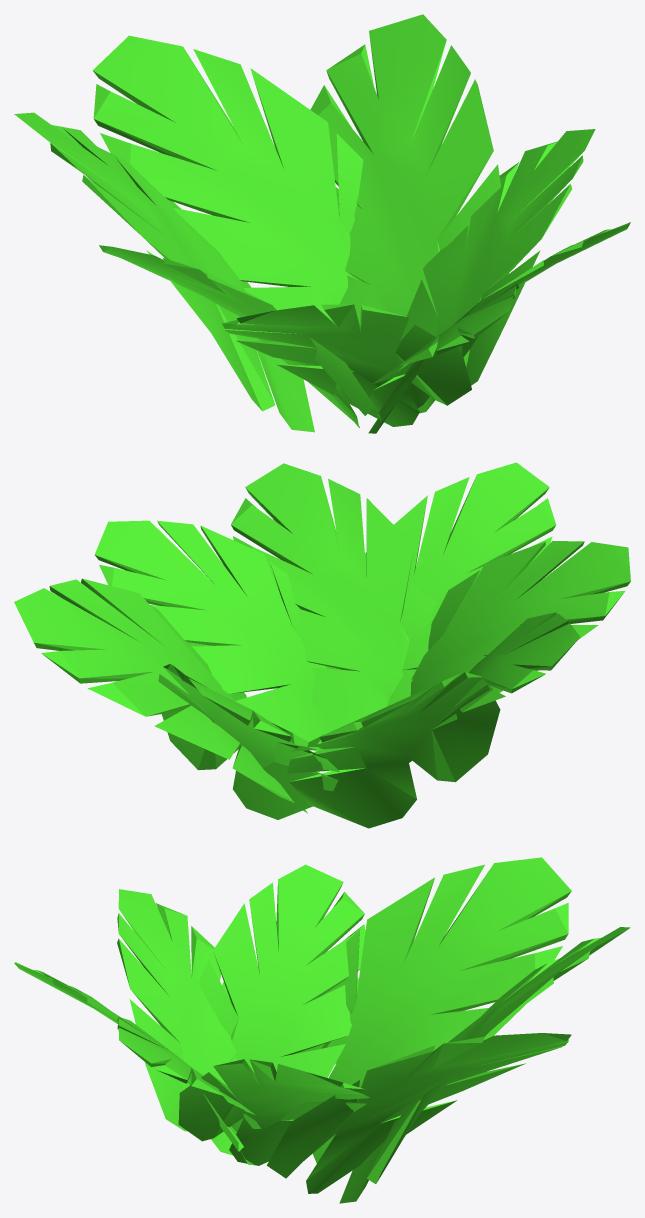
File: Gr-feuilles2.FBX
The picture shows the model from 3 angles, top to bottom: view 1: azimuth 30°, elevation 25°; view 2: azimuth 150°, elevation 25°; view 3: azimuth 270°, elevation 25°; orthographic projection. The views are drawn at different scales.
Visible parts, largest first — view 1: feuille011, feuille013, feuille010, feuille014, feuille015, feuille004, feuille012, feuille016; view 2: feuille016, feuille010, feuille013, feuille014, feuille015, feuille012, feuille011, feuille004; view 3: feuille014, feuille004, feuille013, feuille015, feuille010, feuille011, feuille016, feuille012.
Part boxes in pixels (<box>): feuille011: <box>92,35,363,321</box>; feuille013: <box>310,14,509,326</box>; feuille010: <box>400,129,595,413</box>; feuille014: <box>14,112,314,432</box>; feuille015: <box>222,304,471,426</box>; feuille004: <box>99,245,374,427</box>; feuille012: <box>370,284,518,411</box>; feuille016: <box>368,222,630,433</box>; feuille016: <box>231,463,436,729</box>; feuille010: <box>94,520,335,751</box>; feuille013: <box>14,578,307,813</box>; feuille014: <box>286,672,500,828</box>; feuille015: <box>410,541,630,705</box>; feuille012: <box>327,462,556,706</box>; feuille011: <box>158,664,339,819</box>; feuille004: <box>407,612,579,762</box>; feuille014: <box>295,857,571,1163</box>; feuille004: <box>198,864,365,1077</box>; feuille013: <box>267,1033,571,1193</box>; feuille015: <box>117,889,237,1155</box>; feuille010: <box>178,1059,369,1165</box>; feuille011: <box>339,927,630,1203</box>; feuille016: <box>117,1017,260,1131</box>; feuille012: <box>14,962,254,1165</box>.
Bounding box in the file's own units: 26.57 × 14.23 × 33.42.
